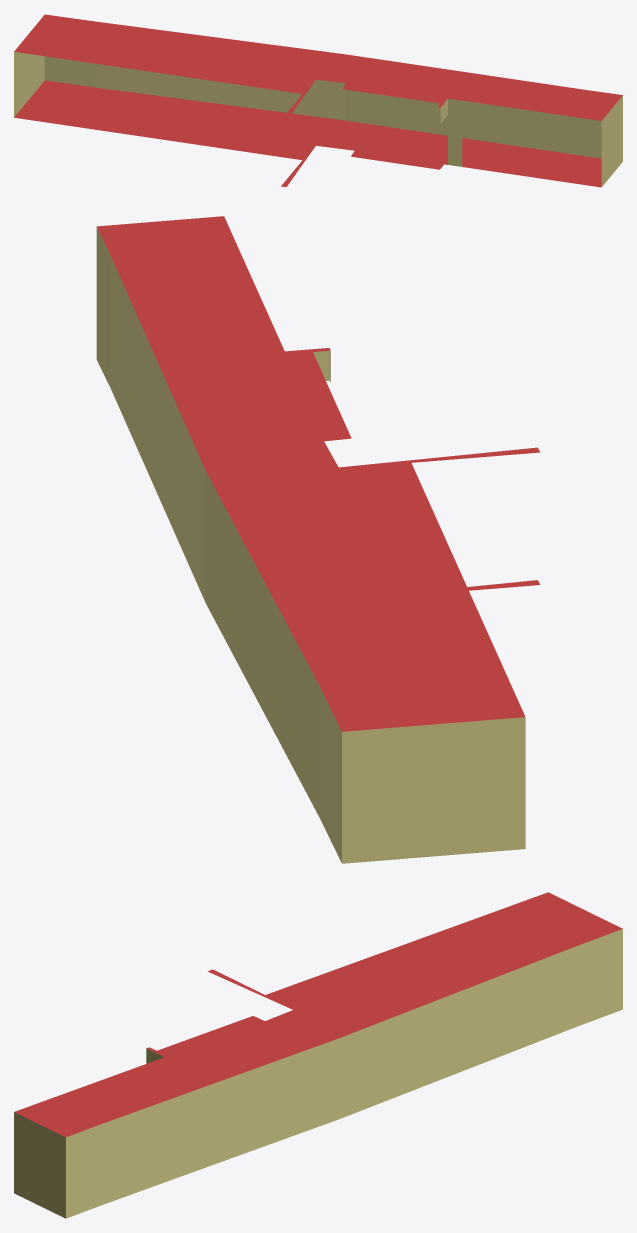
The picture shows the model from 3 angles, top to bottom: view 1: azimuth 30°, elevation 25°; view 2: azimuth 150°, elevation 25°; view 3: azimuth 270°, elevation 25°; orthographic projection. The views are drawn at different scales.
Size of the model in its own units: 71.07 by 74.42 by 10.97.
